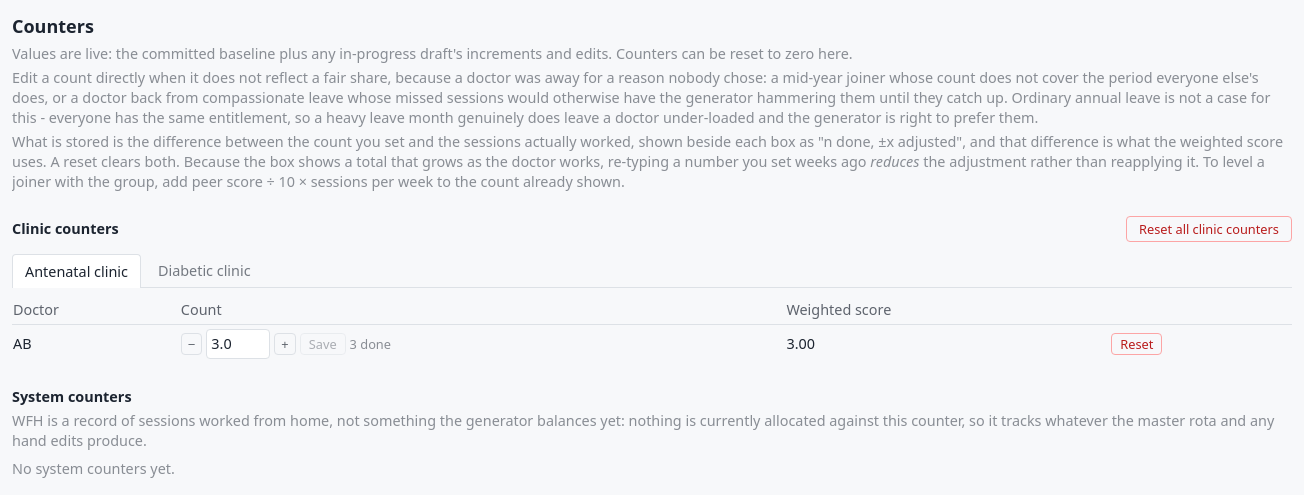
it: CountersPage › shows the first tab's counters by default and switches on click
This screenshot has width=1304, height=495.
expect the text "3 done" is shown: met, box [350, 336, 391, 352]
expect the text "7 done" is not shown: met
Click the tab "Diabetic clinic" at (204, 271), box [145, 254, 264, 288]
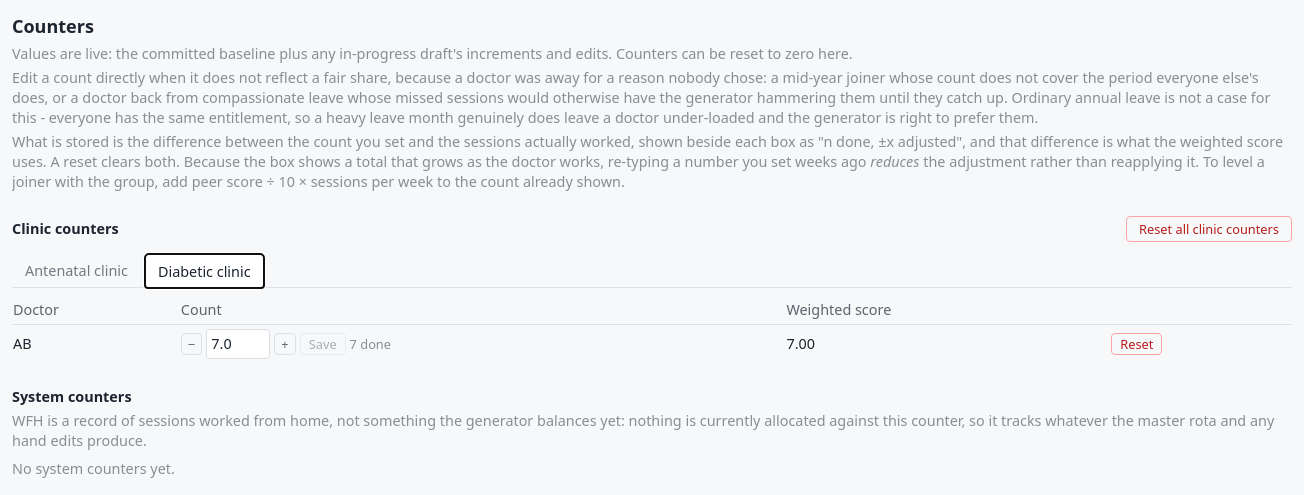
expect the text "7 done" is shown: met, box [350, 336, 391, 352]
expect the text "3 done" is gone: met
